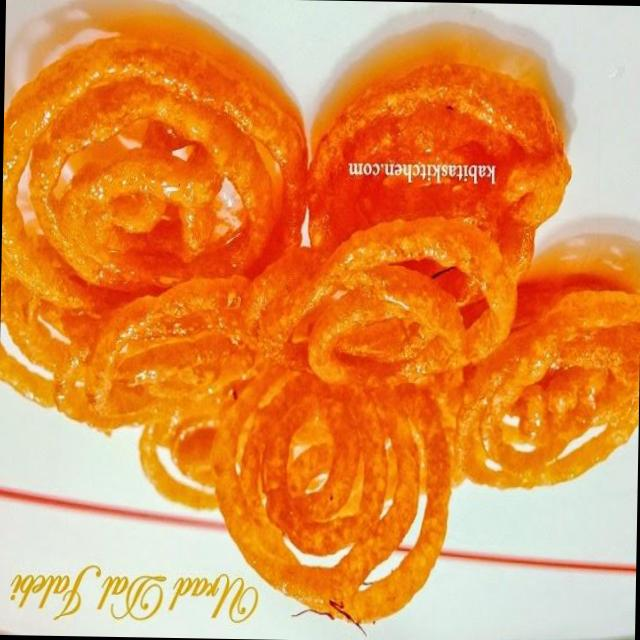jalebi: (0, 10, 636, 610)
